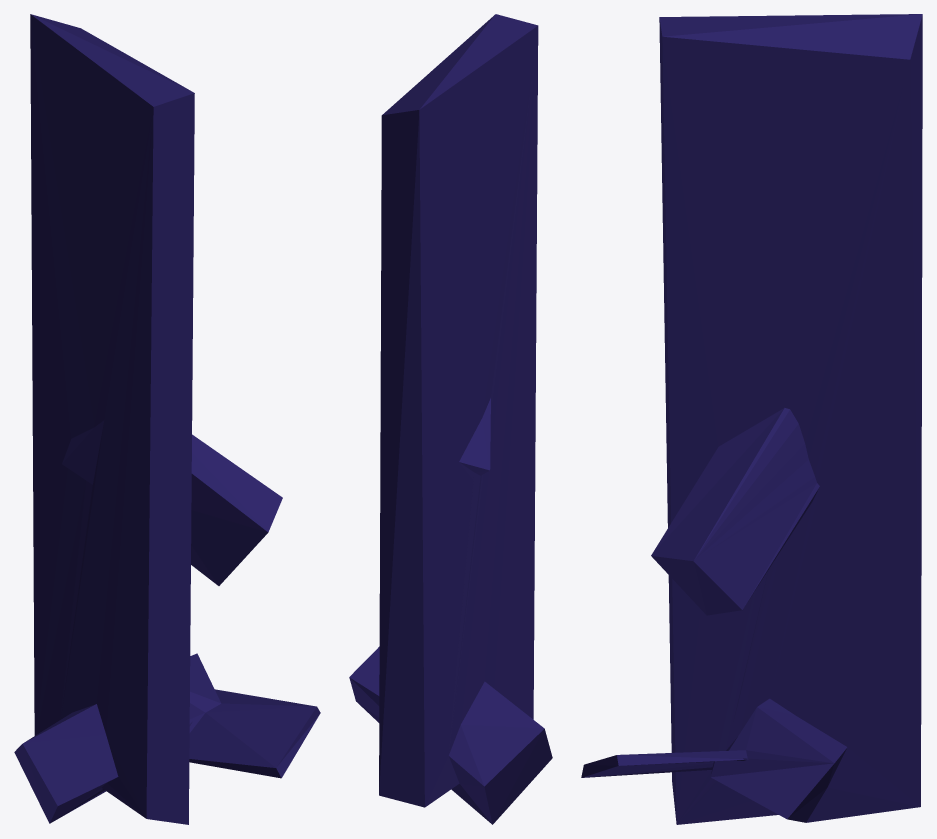
The picture shows the model from 3 angles, left to right: view 1: azimuth 30°, elevation 25°; view 2: azimuth 150°, elevation 25°; view 3: azimuth 270°, elevation 25°; orthographic projection. The views are drawn at different scales.
Visible parts, largest first — view 1: 338_Cube.1380; view 2: 338_Cube.1380; view 3: 338_Cube.1380.
Part boxes in pixels (x1,y1,x2,y2): 338_Cube.1380: [14, 14, 320, 824]; 338_Cube.1380: [349, 14, 552, 824]; 338_Cube.1380: [581, 14, 922, 824].
Bounding box in the file's own units: 3.79 × 12.81 × 4.83.
